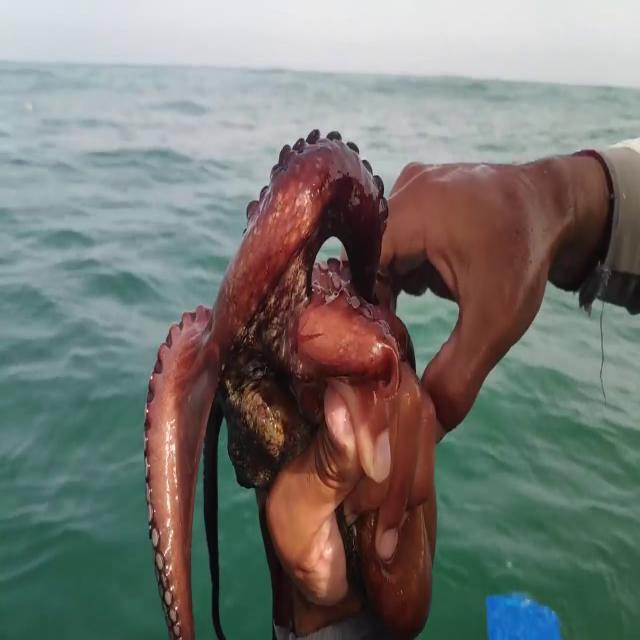octopus: (143, 129, 440, 640)
